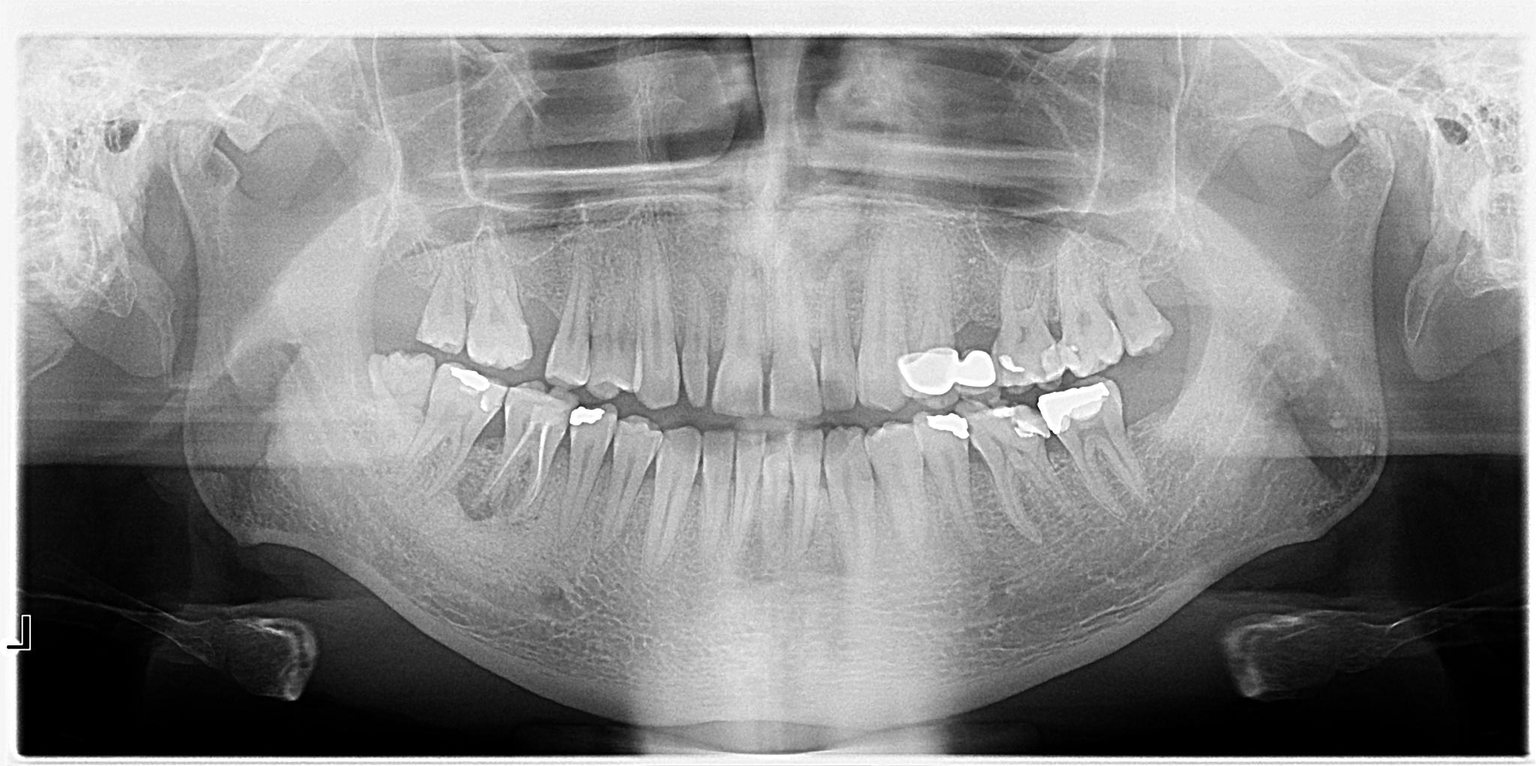Premolars: (529, 216, 1536, 611), (523, 178, 1536, 558), (317, 204, 924, 603), (278, 185, 787, 568), (246, 185, 699, 542), (217, 169, 591, 509), (226, 113, 649, 397)
